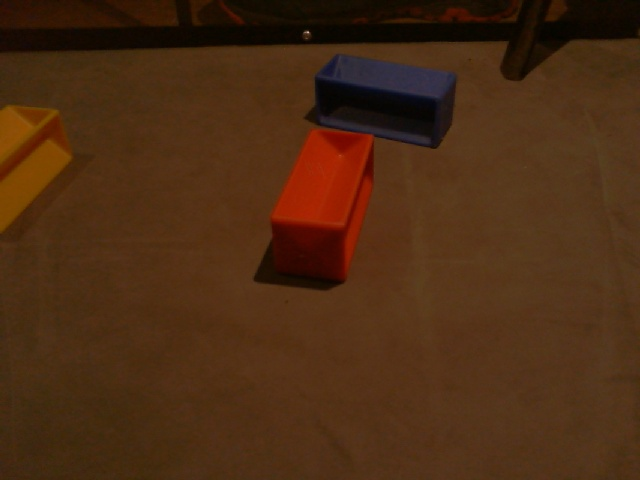BlueSample: (314, 50, 457, 152)
RedSample: (267, 128, 376, 286)
YellowSample: (1, 97, 74, 238)
